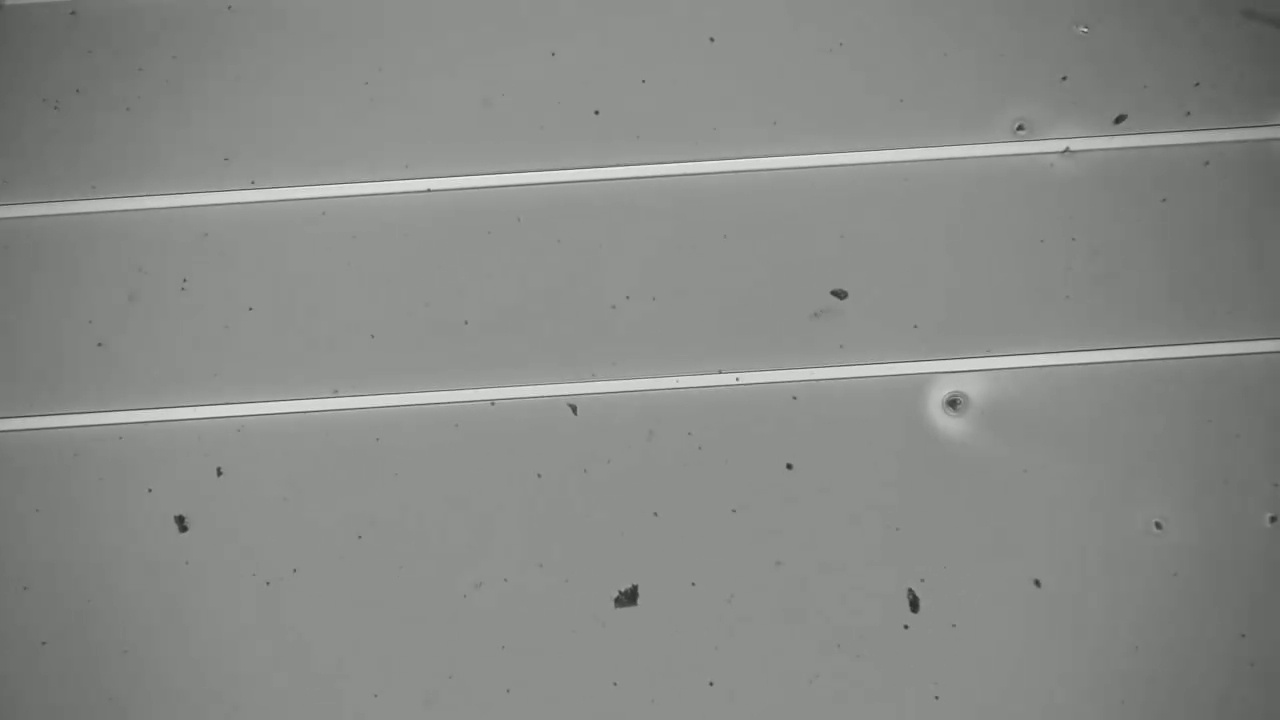stains_enbedded: (1056, 130, 1079, 161)
